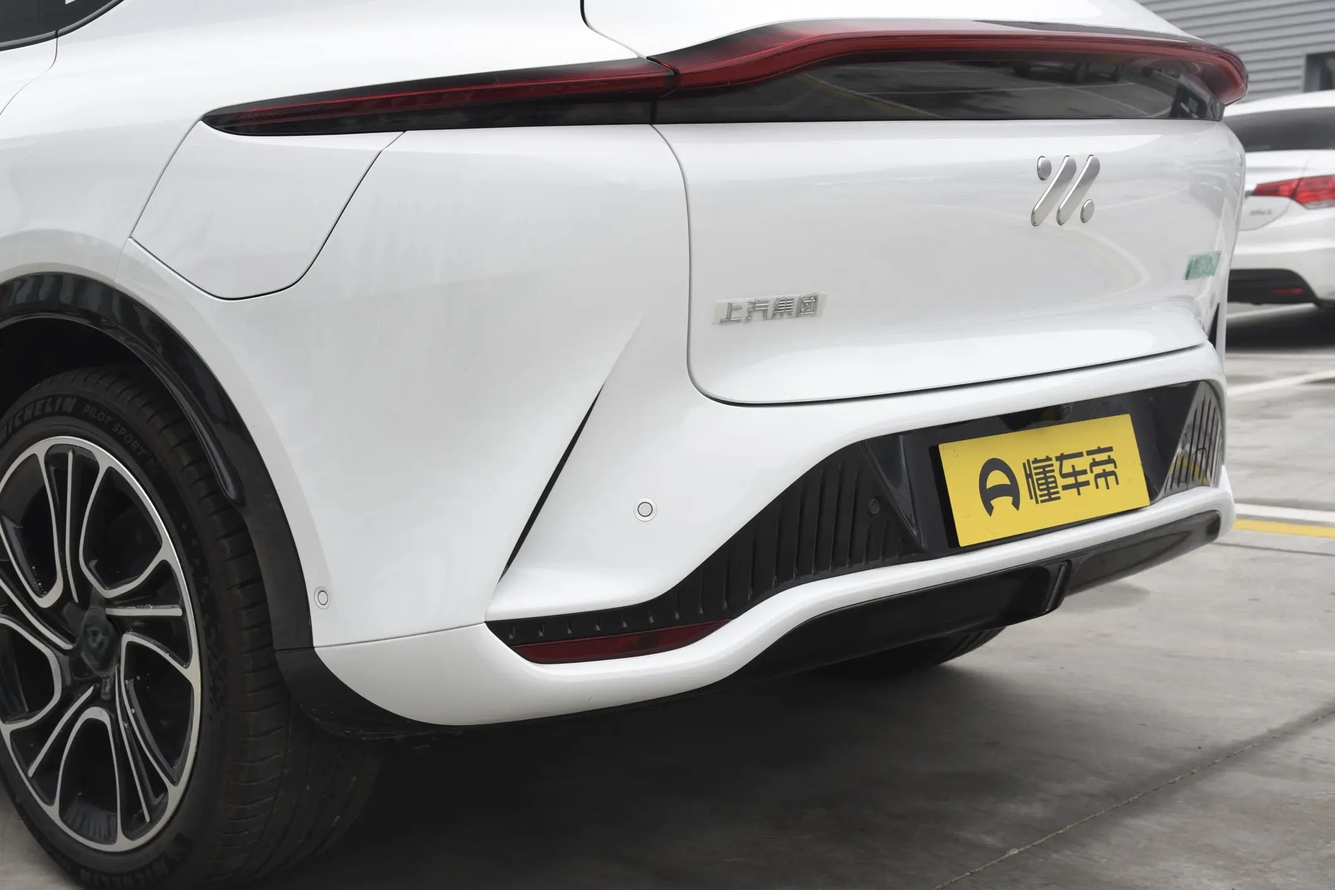IM: (1032, 156, 1099, 226)
